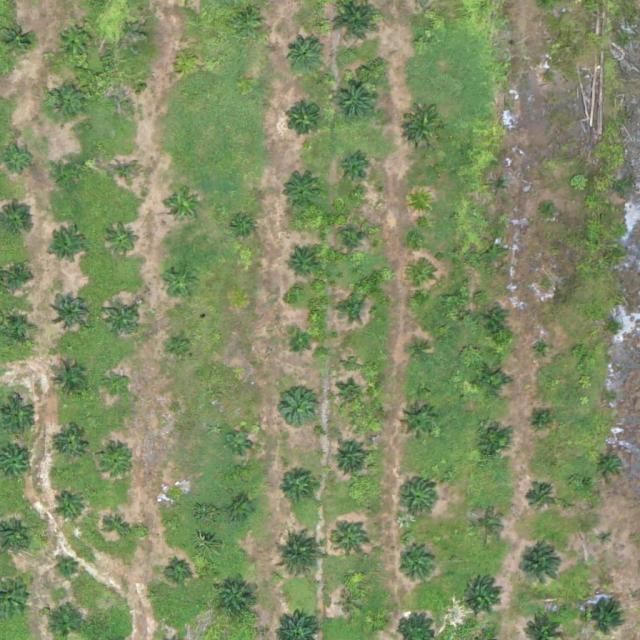Grass: (231, 499, 254, 523)
Small: (517, 545, 564, 593), (274, 534, 321, 581), (332, 76, 379, 123), (285, 35, 325, 75), (49, 229, 88, 269), (279, 465, 318, 505), (49, 362, 88, 402), (104, 300, 143, 340), (160, 263, 199, 303), (405, 108, 444, 148), (585, 593, 624, 633), (331, 438, 370, 478), (464, 577, 503, 617), (399, 403, 438, 443), (474, 424, 513, 464), (398, 478, 437, 518), (332, 519, 371, 559), (45, 82, 85, 121), (164, 187, 204, 226), (474, 362, 513, 402), (278, 386, 317, 425), (215, 580, 254, 619), (51, 290, 90, 329), (282, 173, 321, 212), (284, 100, 323, 139), (401, 548, 440, 587), (57, 21, 96, 60), (108, 225, 139, 257), (286, 249, 317, 281), (334, 292, 365, 324), (525, 482, 556, 514), (110, 159, 141, 191), (55, 157, 86, 189), (4, 143, 35, 175), (58, 427, 89, 458), (101, 447, 132, 478), (336, 155, 367, 186), (232, 5, 263, 36), (472, 511, 503, 542), (596, 450, 627, 481), (335, 382, 366, 413), (337, 226, 368, 257), (3, 261, 34, 292), (4, 314, 35, 345), (55, 492, 86, 523), (56, 555, 80, 579), (409, 190, 433, 214), (532, 339, 556, 363), (485, 309, 509, 333), (410, 267, 434, 291), (409, 342, 433, 366), (482, 240, 506, 264), (175, 48, 199, 72), (232, 217, 256, 241), (104, 375, 128, 399), (165, 489, 189, 513), (107, 515, 131, 539), (341, 592, 364, 616), (169, 561, 193, 584), (488, 174, 511, 198), (289, 332, 312, 356), (117, 80, 140, 104), (169, 336, 192, 359), (228, 429, 251, 452), (541, 199, 557, 215), (539, 69, 555, 84), (415, 35, 430, 51), (534, 411, 549, 427), (599, 530, 614, 545)
